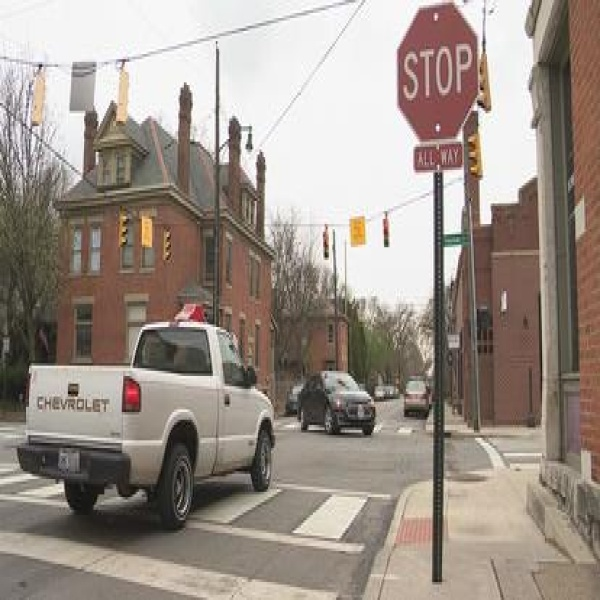stop: (399, 4, 480, 144)
